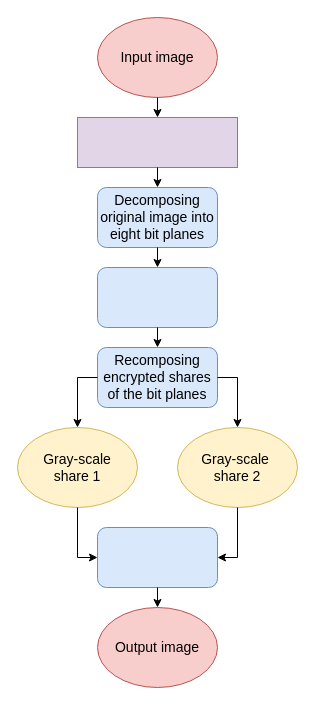
This 315x705 diagram has some shape labels left out. The shapes that lost their labels are listed below. From the top down, each one's centre as x and y in pixels, then its label:
point 157,142: Algorithm
point 157,297: Encrypting bit planes using binary VC
point 157,557: Superposing the two gray-scale shares
